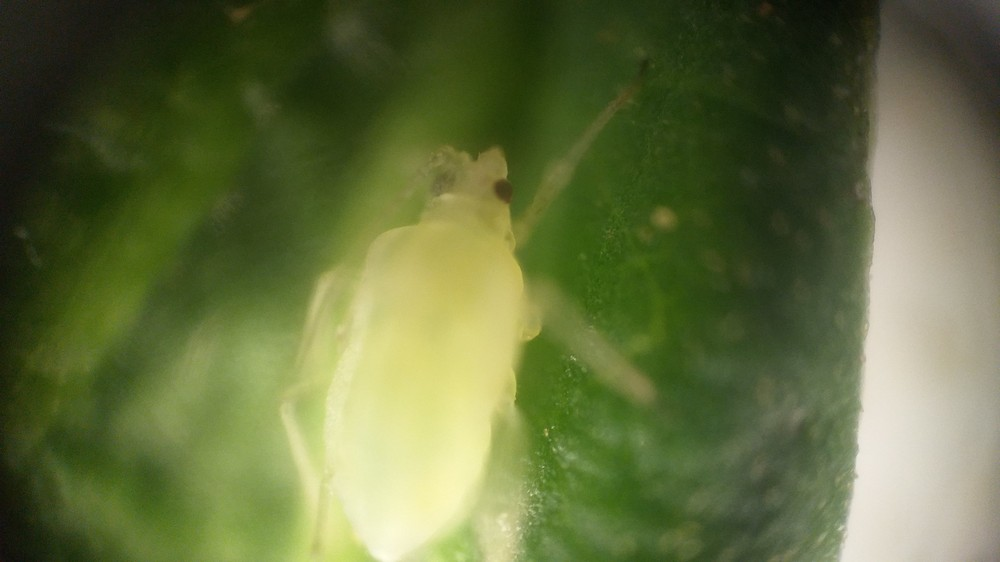Pulgon: (219, 86, 677, 561)
